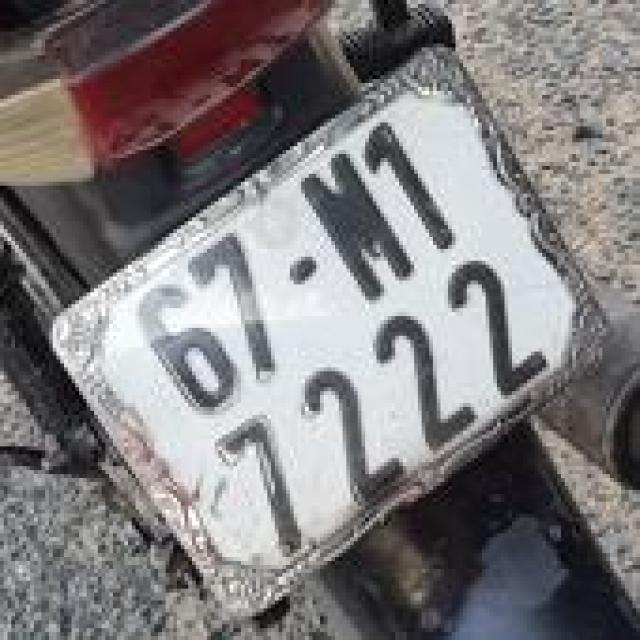1: (347, 103, 481, 267)
2: (426, 235, 570, 421), (356, 292, 493, 468), (293, 350, 418, 519)
6: (115, 269, 255, 438)
7: (175, 216, 300, 397), (200, 399, 323, 570)
M: (275, 134, 432, 320)
